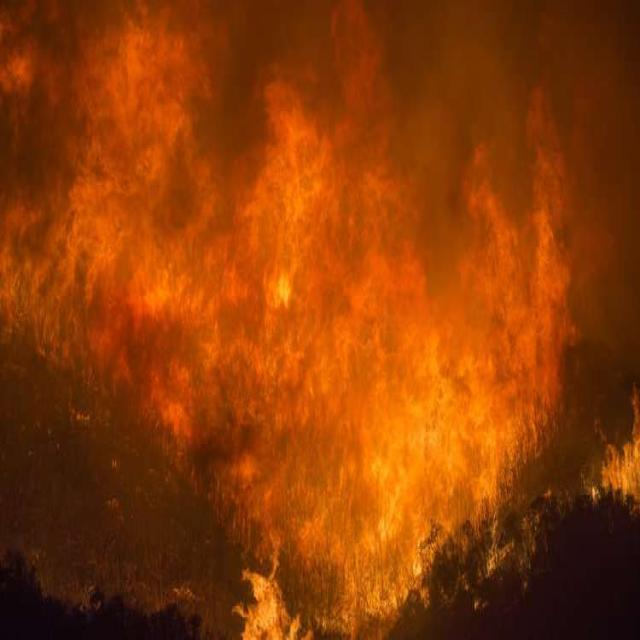Fire: (0, 2, 638, 336), (242, 339, 484, 626), (472, 343, 580, 503), (321, 182, 427, 338), (264, 138, 351, 319), (474, 206, 569, 324), (603, 386, 640, 510), (152, 360, 192, 444)
Smoke: (0, 378, 105, 578), (567, 27, 640, 308), (388, 0, 517, 145), (100, 473, 217, 602), (230, 9, 326, 82), (3, 102, 65, 201), (201, 92, 255, 176)
